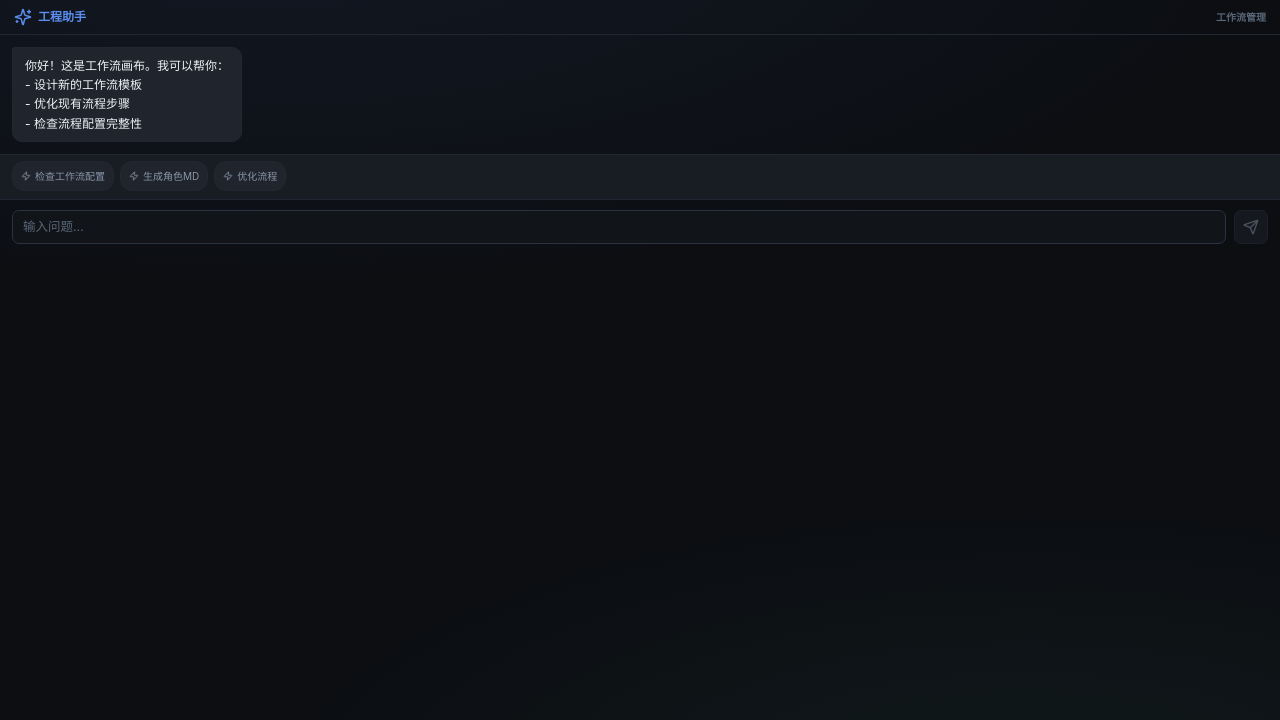
it: AI Assistant › responds to 检查配置 query
This screenshot has width=1280, height=720.
Type "检查配置" into the field with placeholder "输入问题..." at (619, 227), box left=12, top=210, right=1226, bottom=244
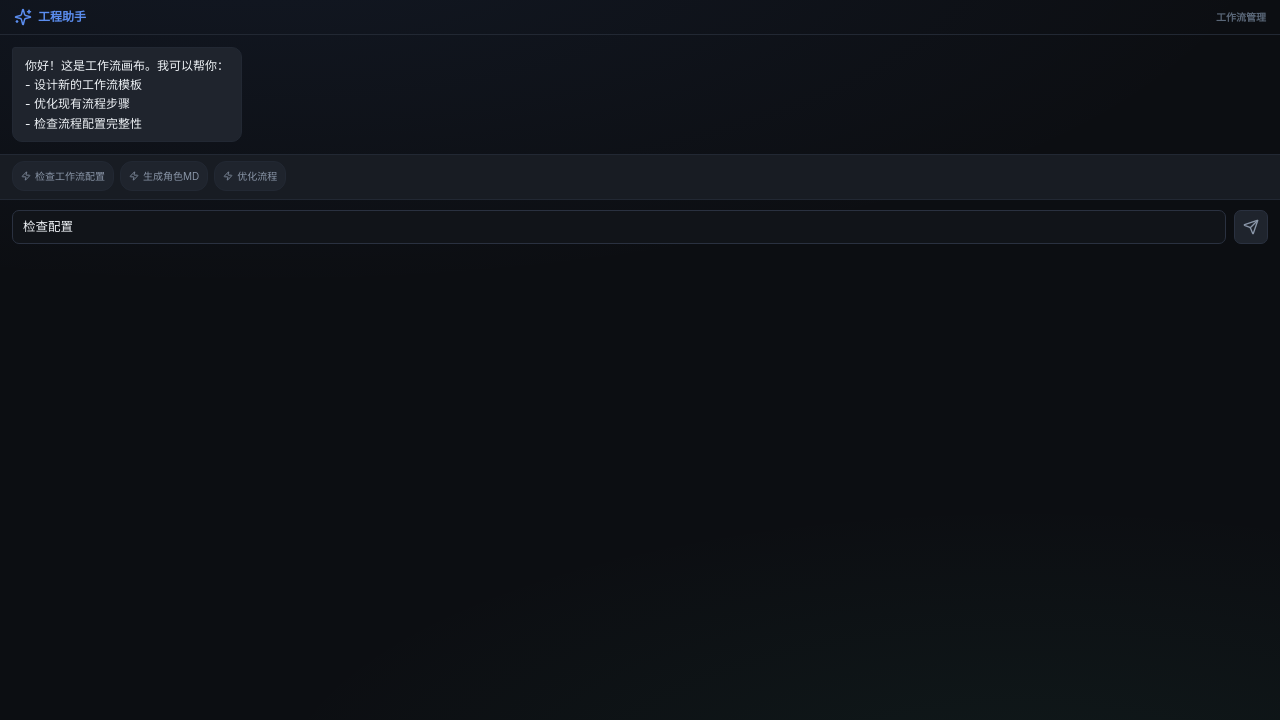
Press Enter in the field with placeholder "输入问题...", box left=12, top=210, right=1226, bottom=244
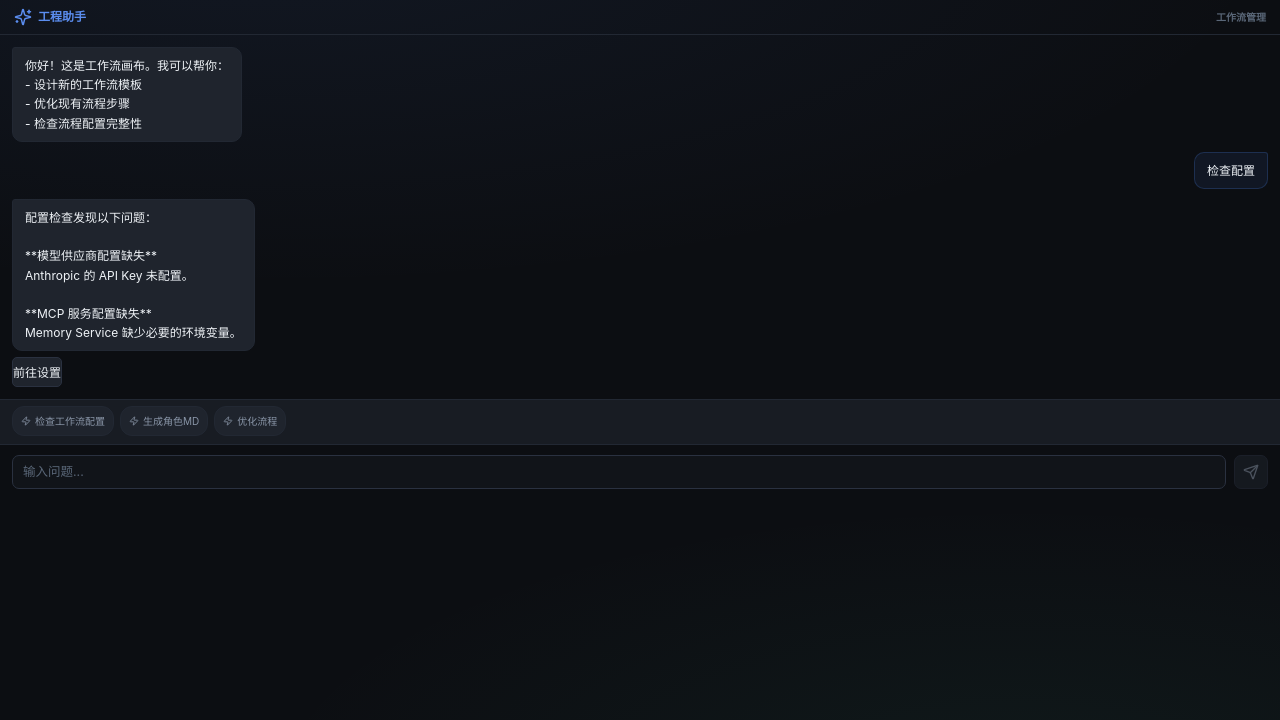
expect the text "配置检查" is shown: met, box left=25, top=210, right=242, bottom=340
